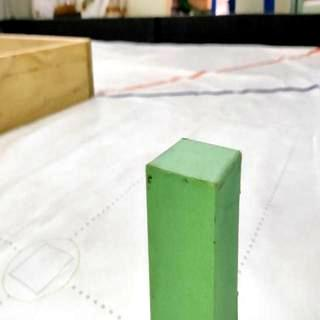greenbox: (144, 135, 245, 320)
